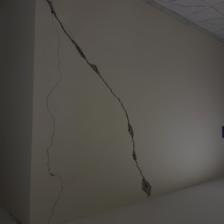Medium: (74, 43, 160, 195)
